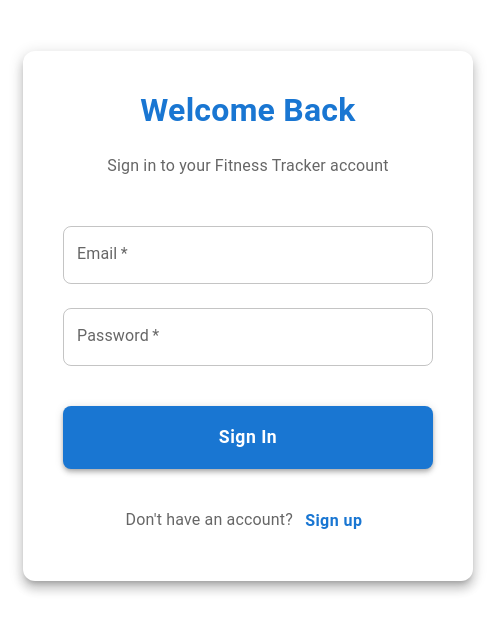
Login Component › displays generic error message when no specific error is provided
Type "test@example.com" into the field labelled "Email *".
click(248, 255); type("test@example.com")  # box 63,226 -> 433,284
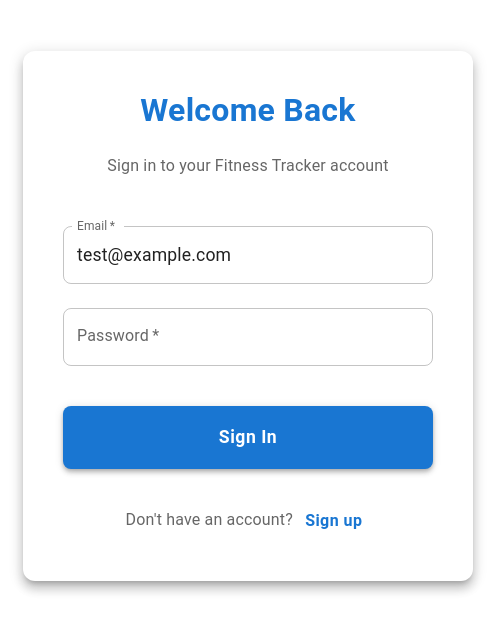
Type "password123" into the password field labelled "Password *".
click(248, 337); type("password123")  # box 63,308 -> 433,366
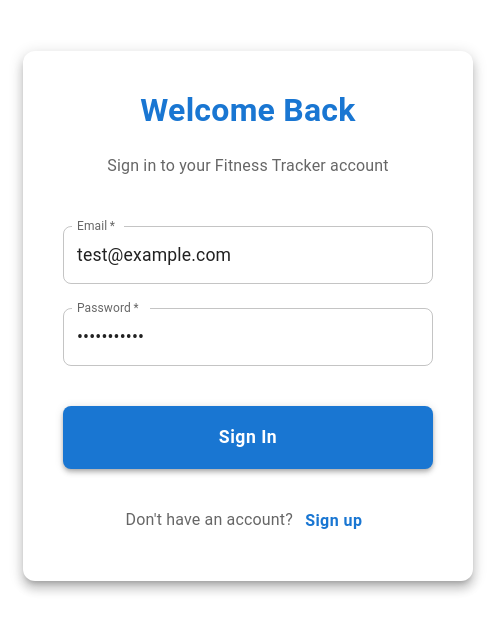
Click the button "Sign In".
click(248, 438)  # box 63,406 -> 433,469
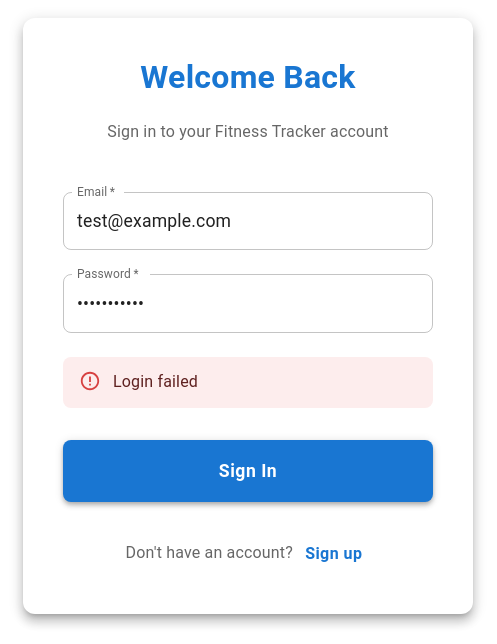
Result: the text "Login failed" is shown at 113,372 -> 198,391
